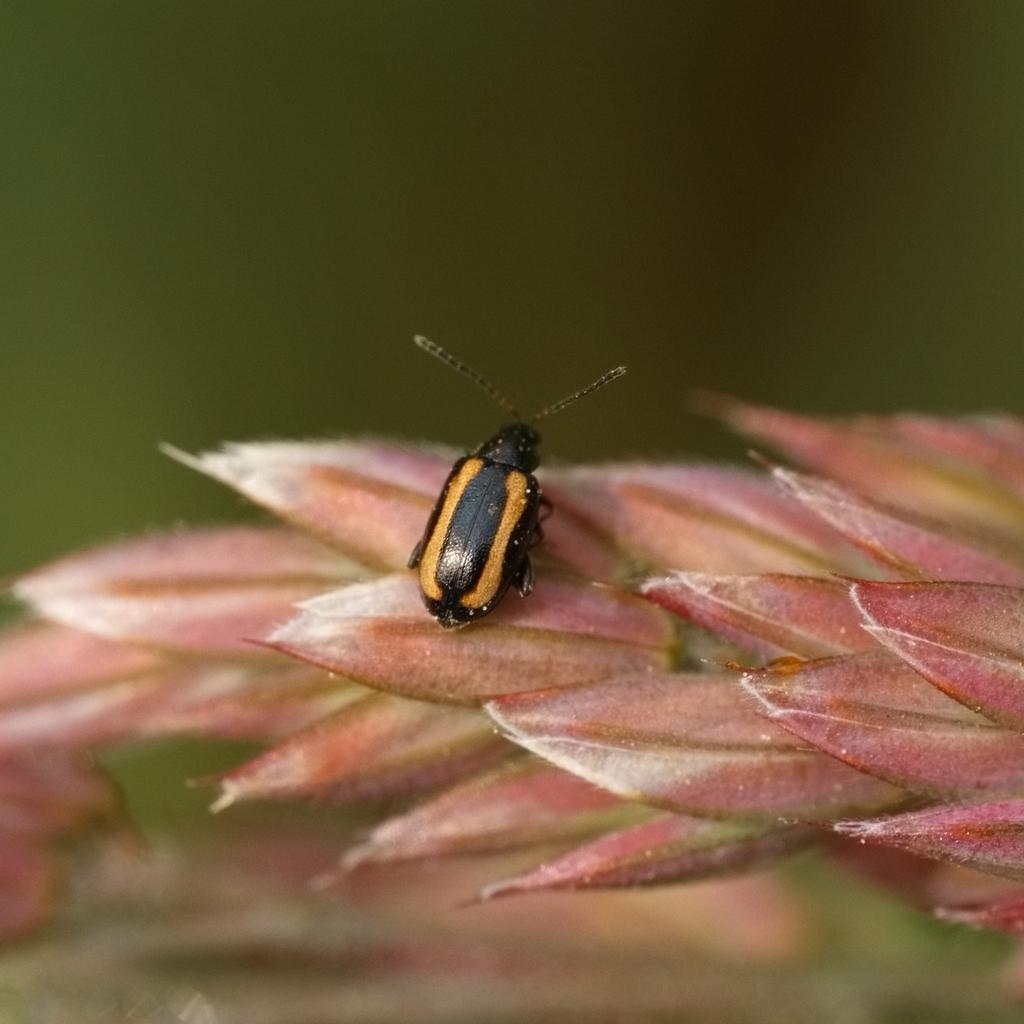flea_beetle: (366, 300, 663, 670)
